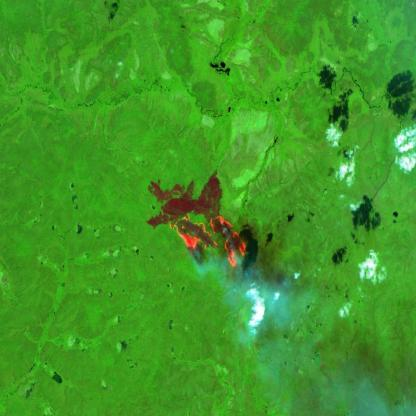fire: (168, 210, 250, 276)
